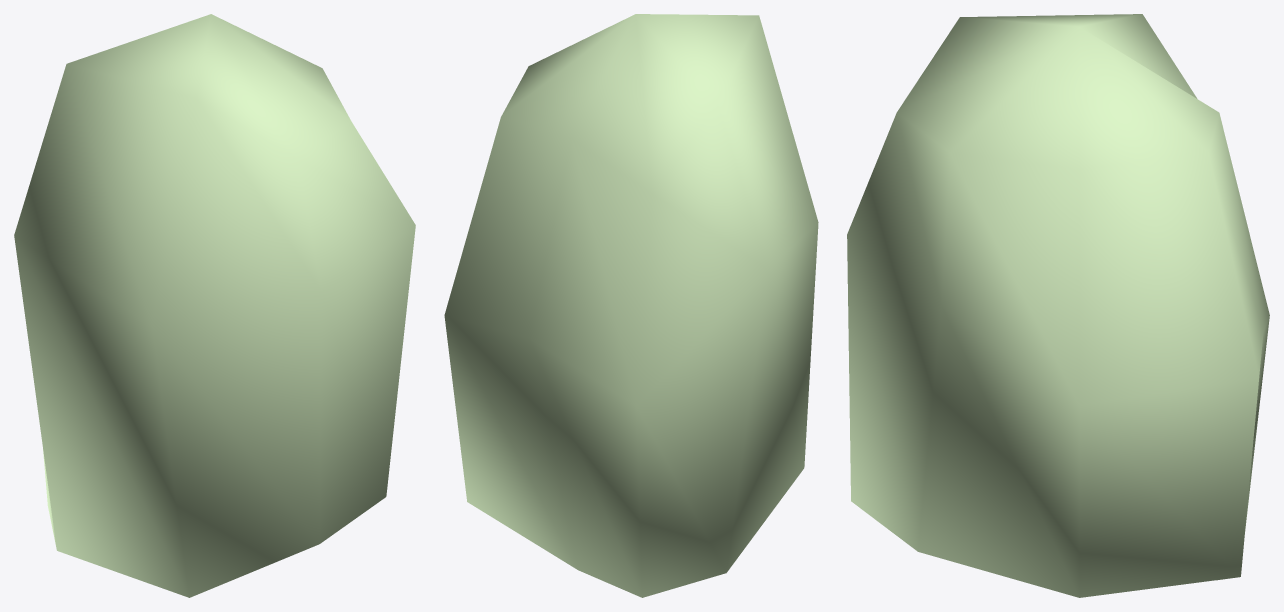
The picture shows the model from 3 angles, left to right: view 1: azimuth 30°, elevation 25°; view 2: azimuth 150°, elevation 25°; view 3: azimuth 270°, elevation 25°; orthographic projection. The views are drawn at different scales.
Parts seen in each view (by area): view 1: Object81; view 2: Object81; view 3: Object81.
Boxes of the visible parts, <box> form: Object81: <box>14,14,415,597</box>; Object81: <box>444,14,818,597</box>; Object81: <box>847,14,1269,597</box>.
Size of the model in its own units: 134 by 202 by 139.
